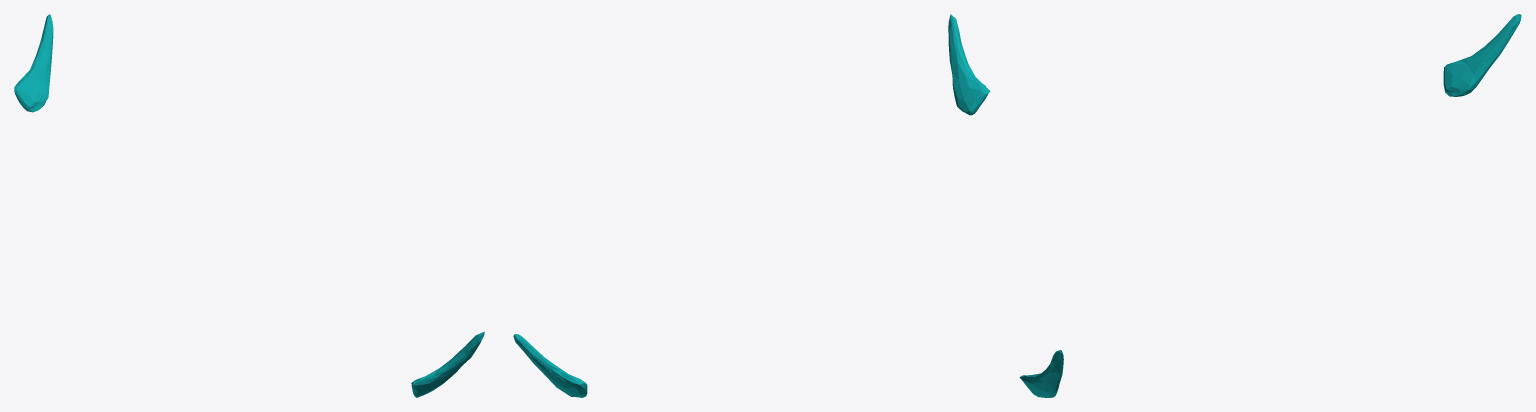
3 renders of one model, left to right at view 1: azimuth 30°, elevation 25°; view 2: azimuth 150°, elevation 25°; view 3: azimuth 330°, elevation 25°, orthographic. The views are drawn at different scales.
Parts seen in each view (by area): view 1: 249.obj; view 2: 249.obj; view 3: 249.obj.
Boxes of the visible parts, x1,y1,x2,y2 form: 249.obj: (14, 14, 484, 397); 249.obj: (513, 14, 990, 397); 249.obj: (1019, 14, 1521, 397).
Bounding box in the file's own units: 631 × 776 × 8431.
